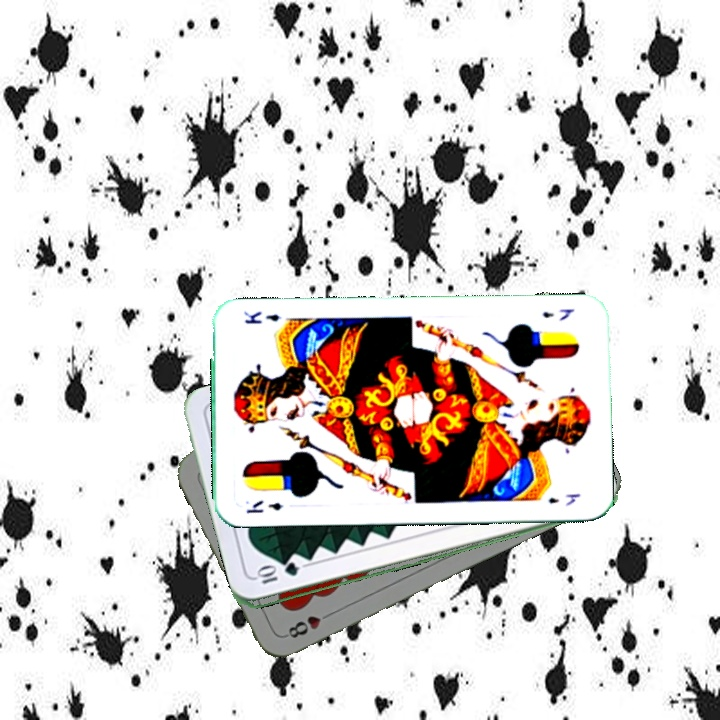EK: (243, 496, 285, 516), (538, 305, 577, 323)
G10: (253, 561, 303, 587)
H8: (280, 607, 336, 641)
